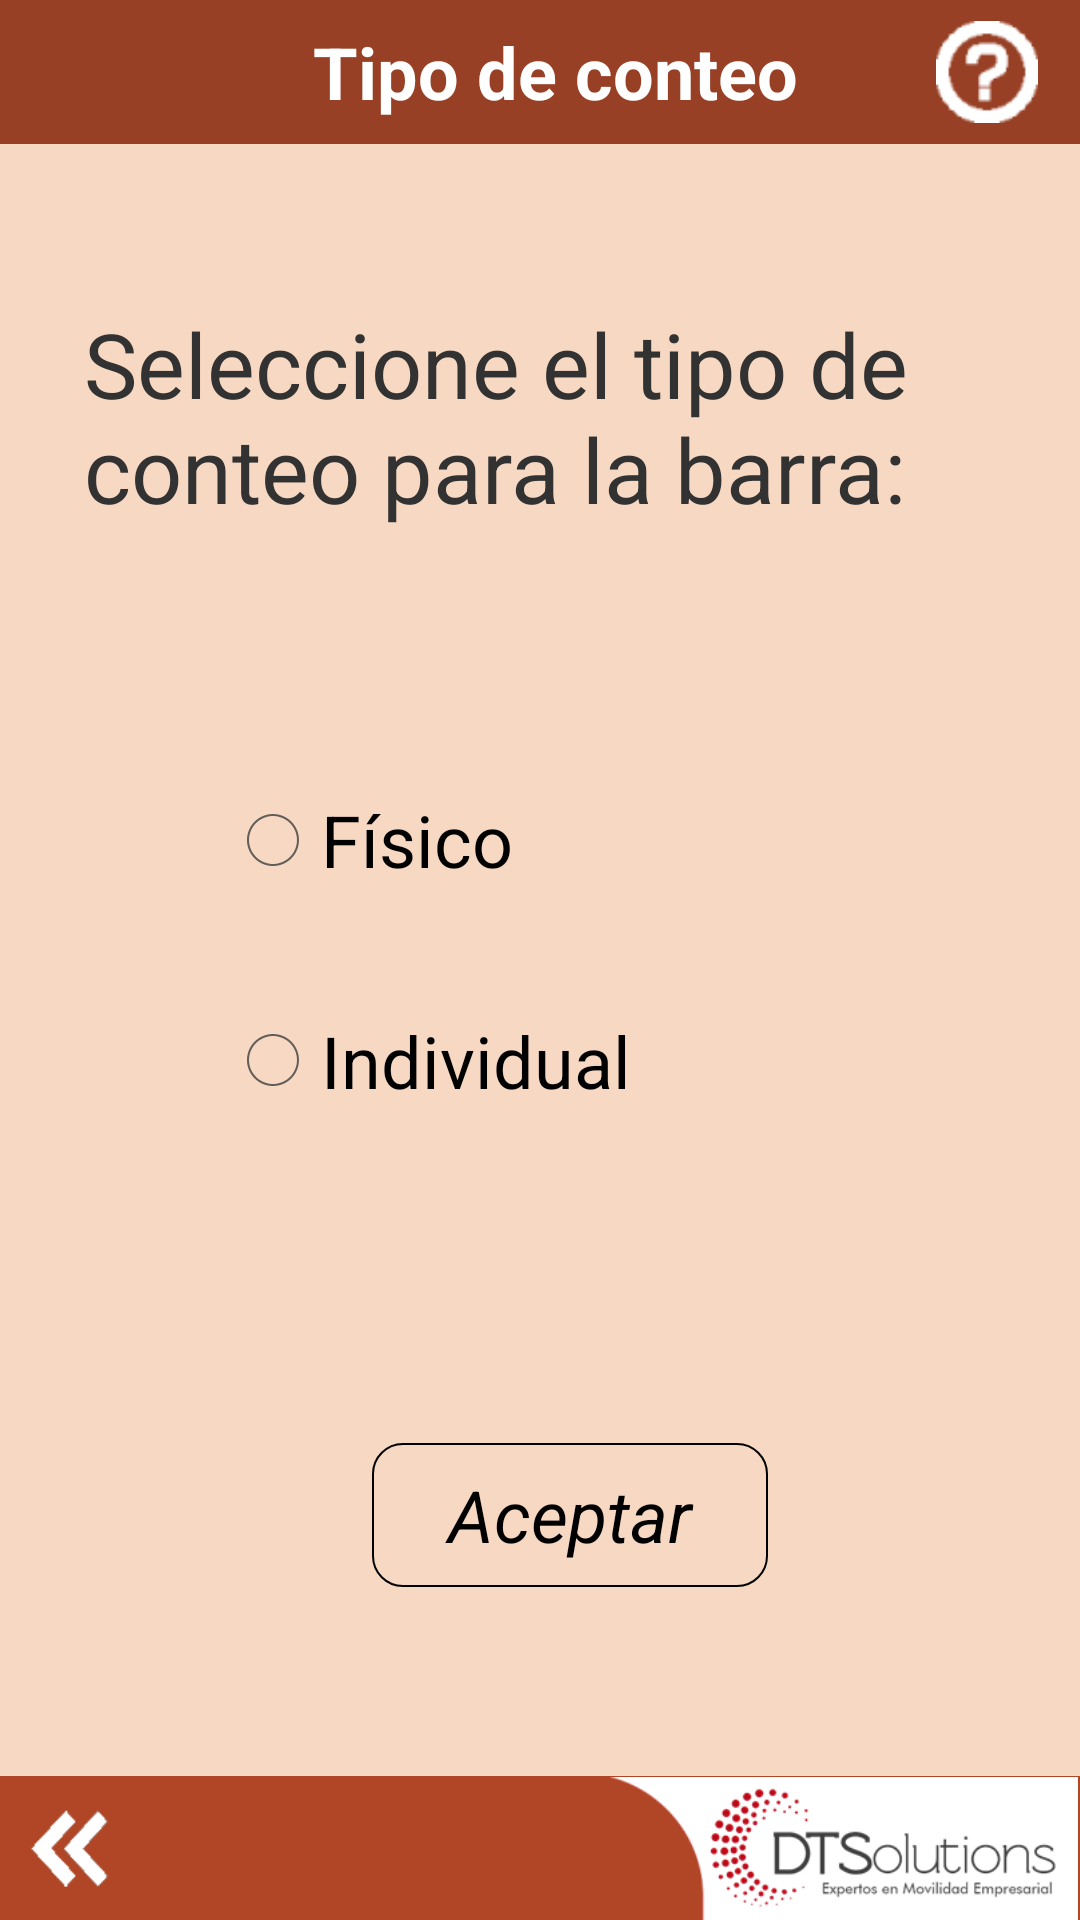

Named icons in this screenshot (1080×1920) and their centers, (x=x, y=y):
arr prev: (x=69, y=1848)
help: (x=987, y=72)
